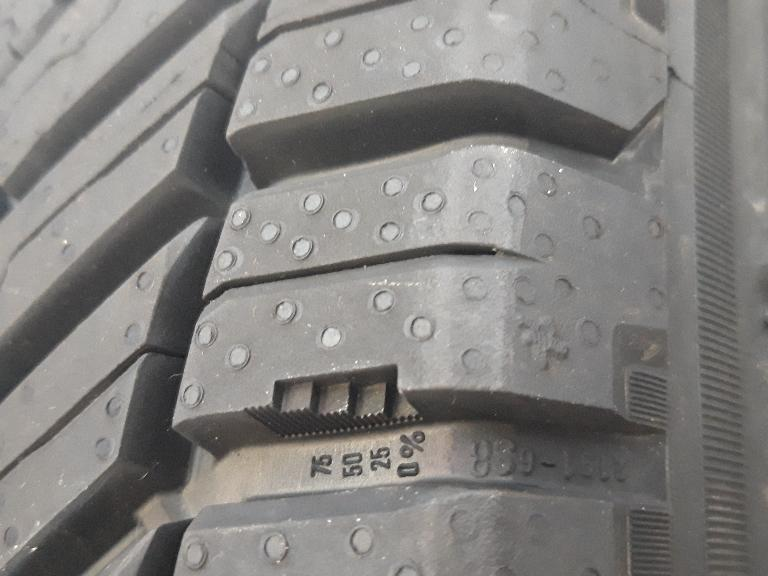temoin:100: (248, 361, 427, 442)
